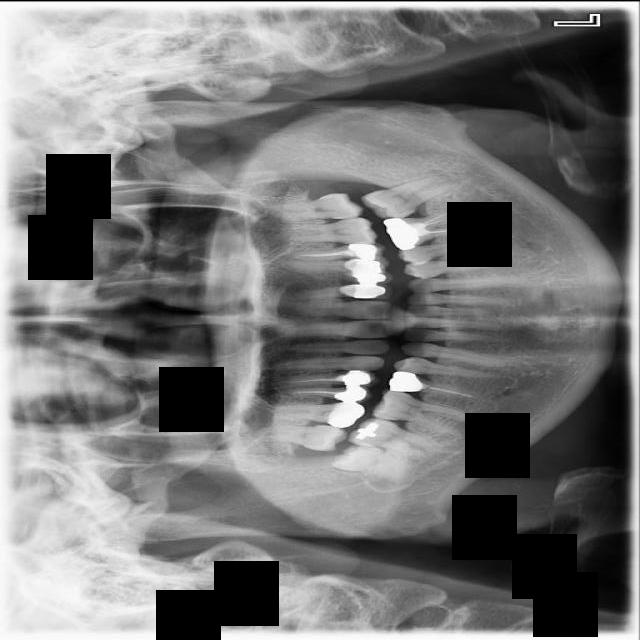52: (345, 404, 399, 458), (340, 254, 394, 299), (381, 205, 428, 256), (314, 398, 366, 429), (338, 368, 380, 389), (343, 240, 385, 260), (388, 369, 423, 393), (333, 384, 372, 402)
73: (415, 198, 489, 243), (418, 377, 480, 407), (287, 245, 347, 262), (287, 383, 335, 398), (285, 372, 338, 385), (574, 36, 587, 42)
BioHorizons Implant: (262, 191, 364, 222)
Blue Sky Bio Implant: (361, 169, 464, 226)
Caries: (240, 421, 348, 451)
Implant: (347, 412, 445, 462)
Keystone Dental Implant: (331, 436, 414, 484)
